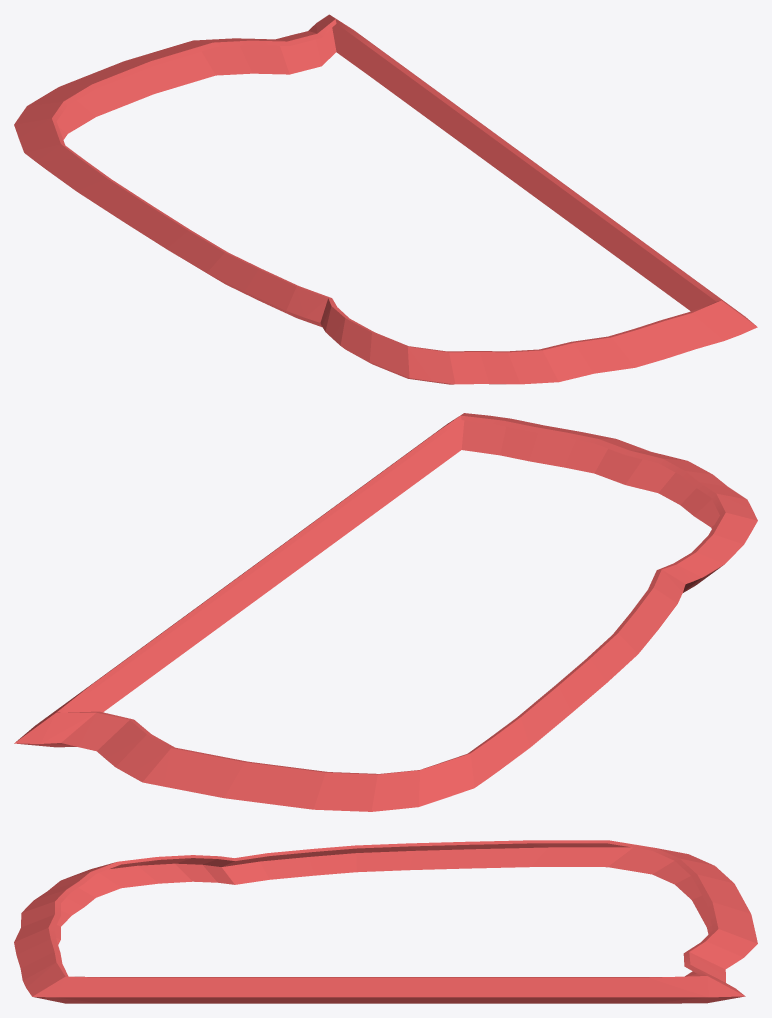
The model's file is test_2_outline.glb.
3 views of the same model, one above another, from view 1: azimuth 30°, elevation 25°; view 2: azimuth 150°, elevation 25°; view 3: azimuth 270°, elevation 25° (orthographic). The views are drawn at different scales.
Parts seen in each view (by area): view 1: Rectangle001; view 2: Rectangle001; view 3: Rectangle001.
Part boxes in pixels (left/top/right/bottom): Rectangle001: left=14, top=14, right=757, bottom=384; Rectangle001: left=14, top=413, right=757, bottom=811; Rectangle001: left=14, top=840, right=757, bottom=1003.
Bounding box in the file's own units: 1.17 × 0.0975 × 2.41.
